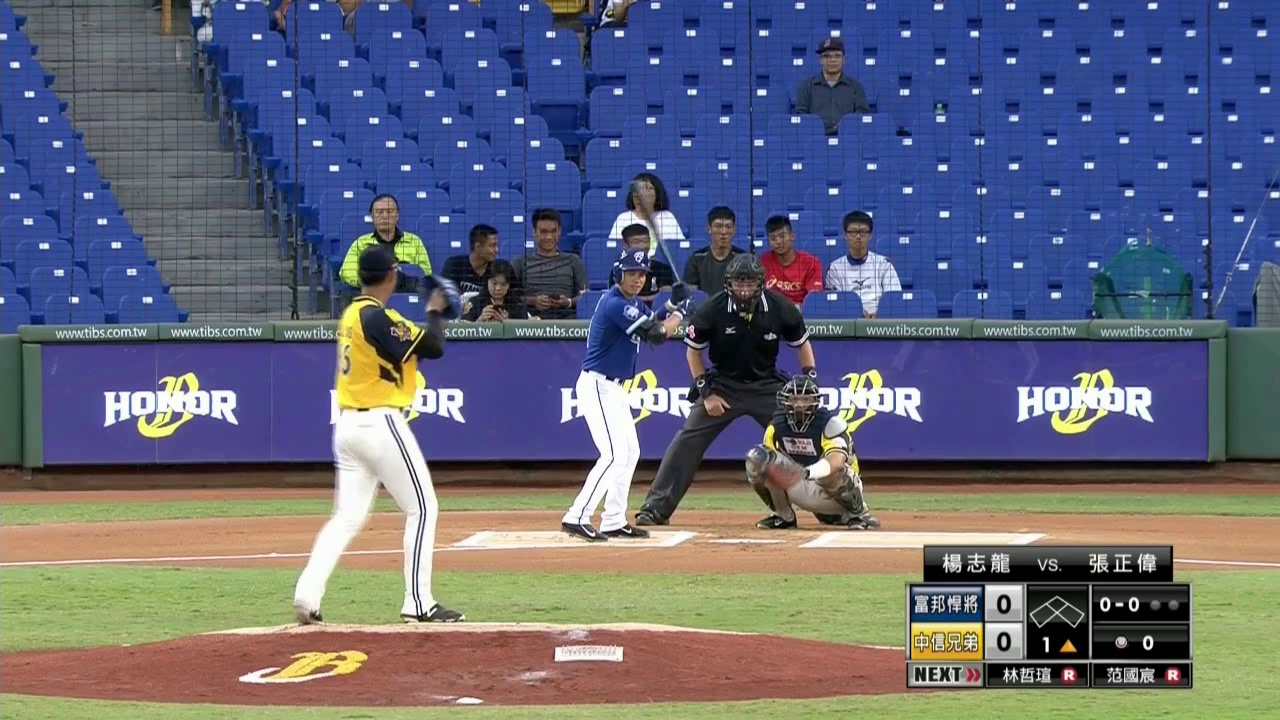ball: (431, 284, 448, 299)
base: (1029, 593, 1090, 629)
bat: (626, 180, 685, 282)
out: (1148, 596, 1181, 612)
score1: (984, 584, 1022, 620)
score2: (985, 621, 1025, 659)
session: (1036, 634, 1081, 654)
strikeball: (1095, 592, 1143, 616)
total: (1109, 630, 1158, 652)
